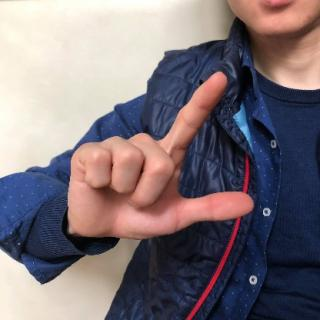LAAM: (66, 67, 257, 251)
